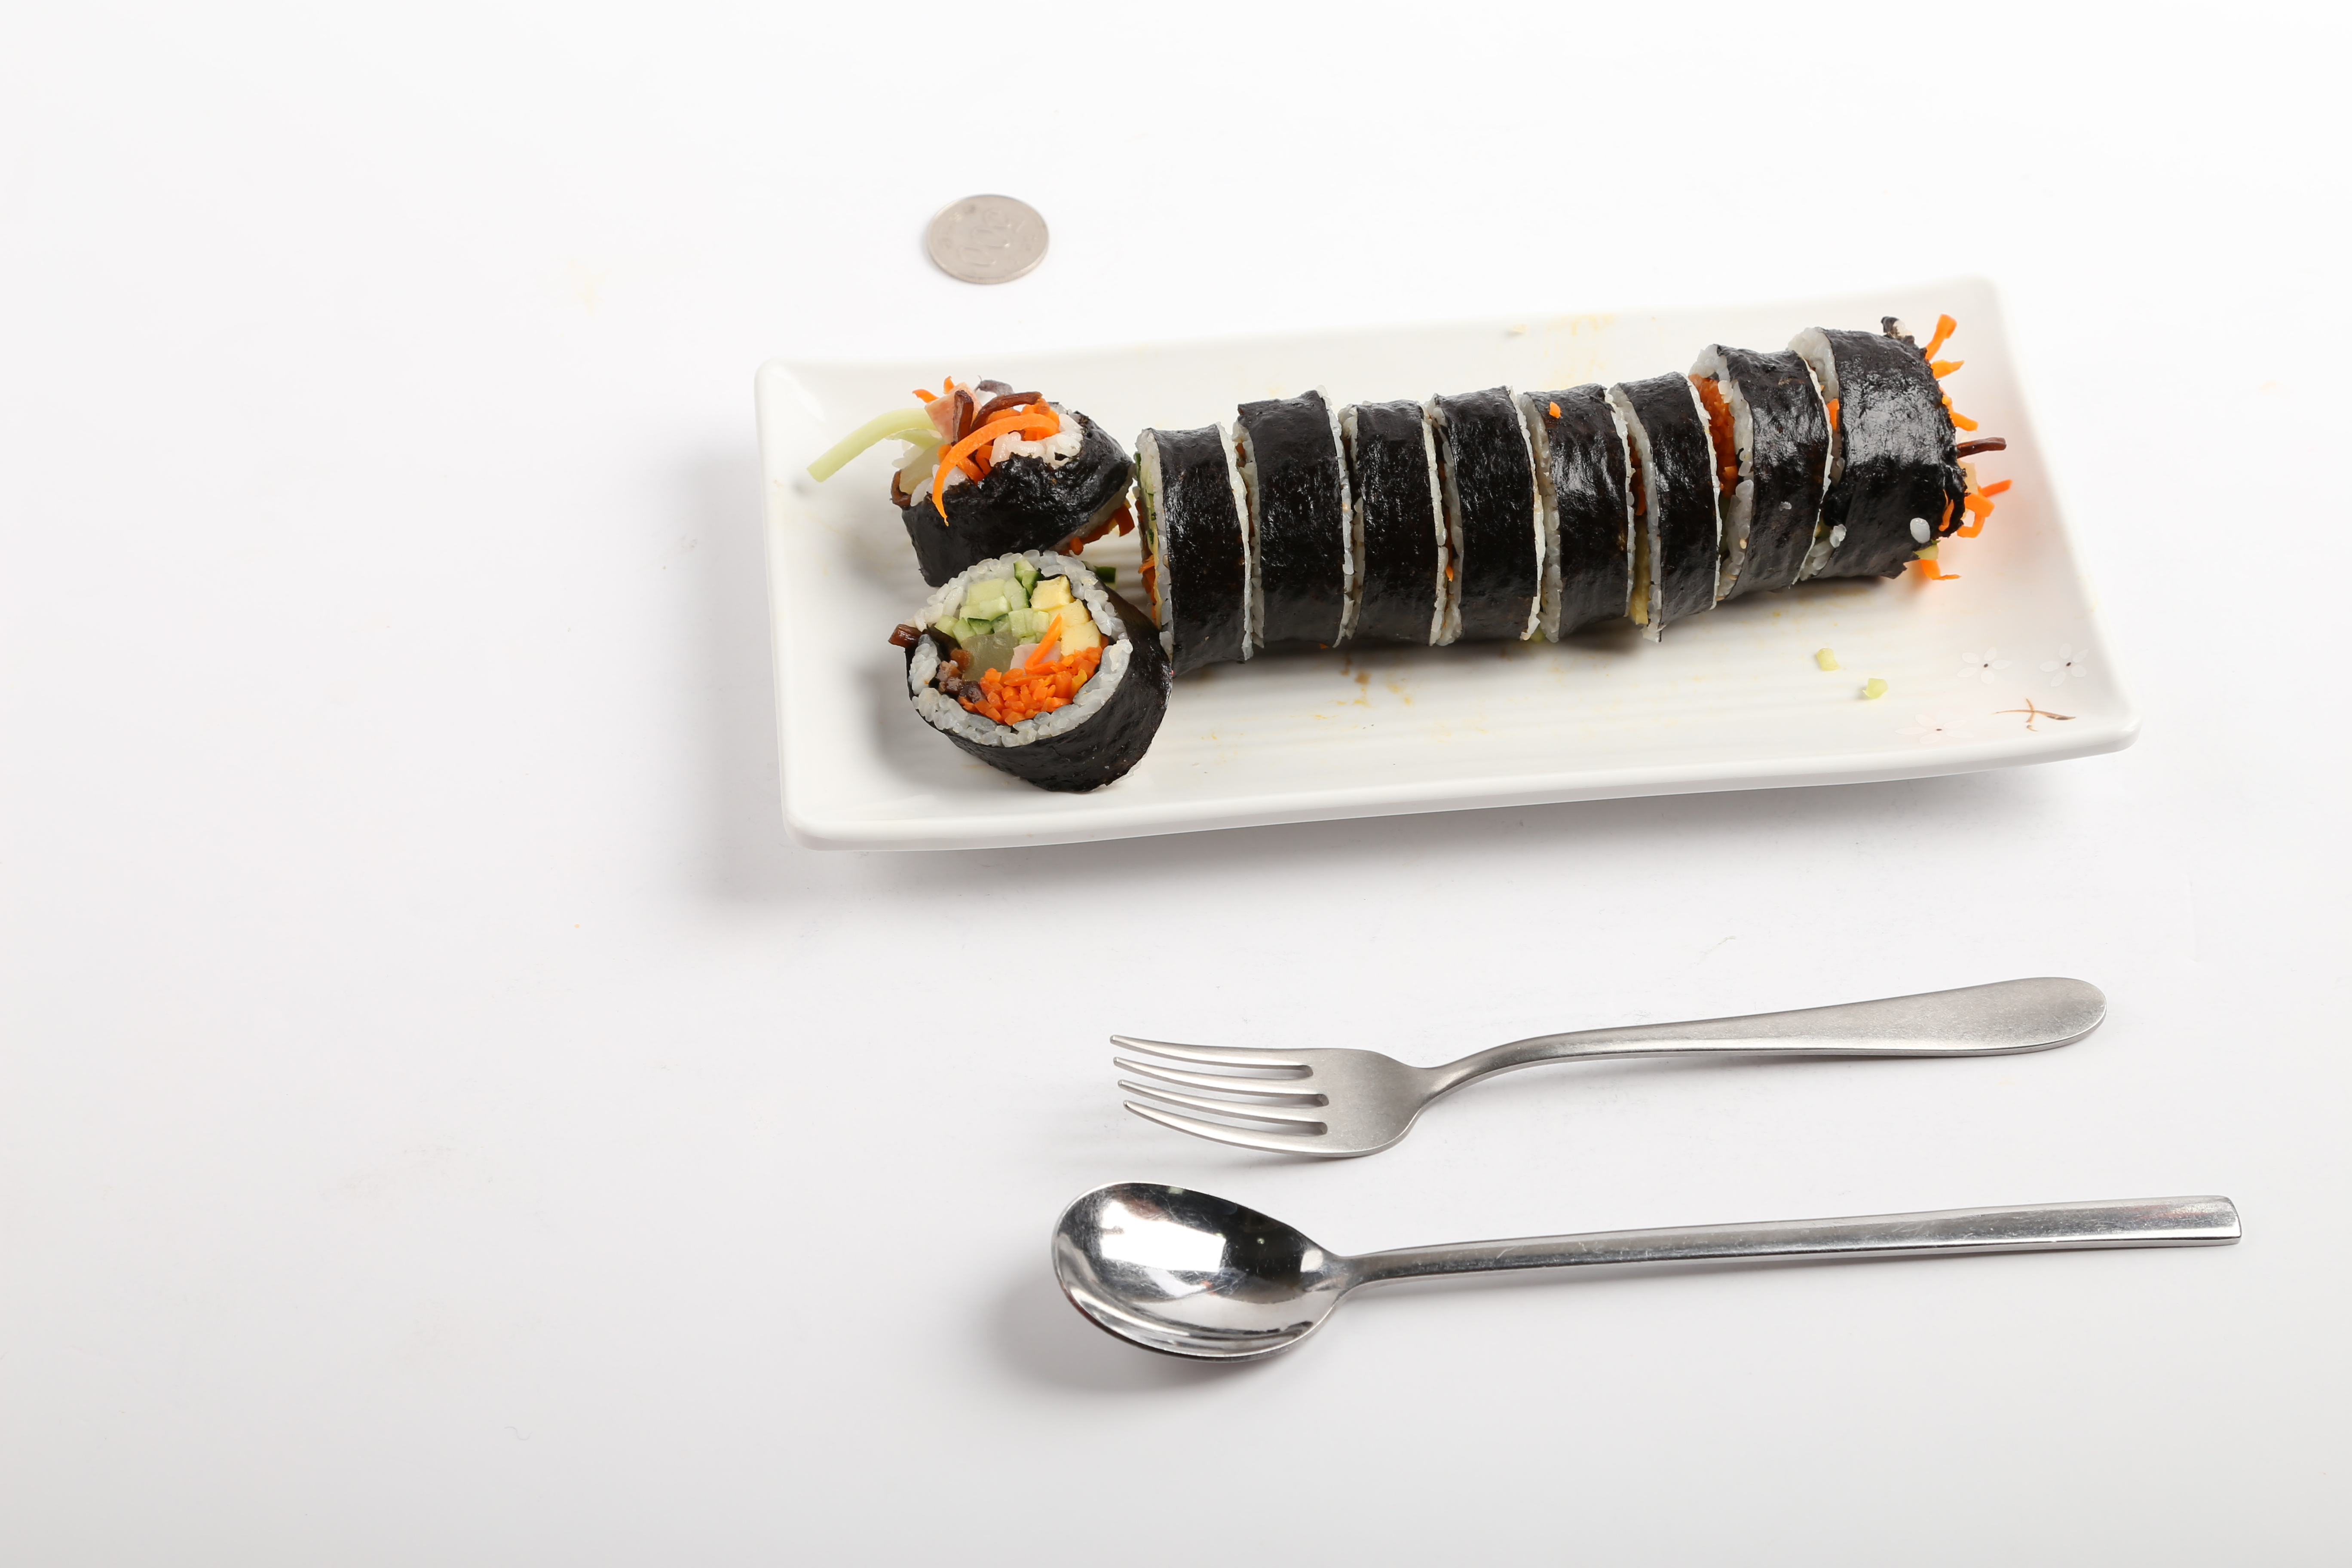dish: (758, 269, 2142, 859)
ref_coin: (919, 185, 1050, 289)
ref_fork: (1108, 1025, 1528, 1165)
ref_spoon: (1041, 1176, 1440, 1372)
김밥: (899, 320, 1960, 793)
